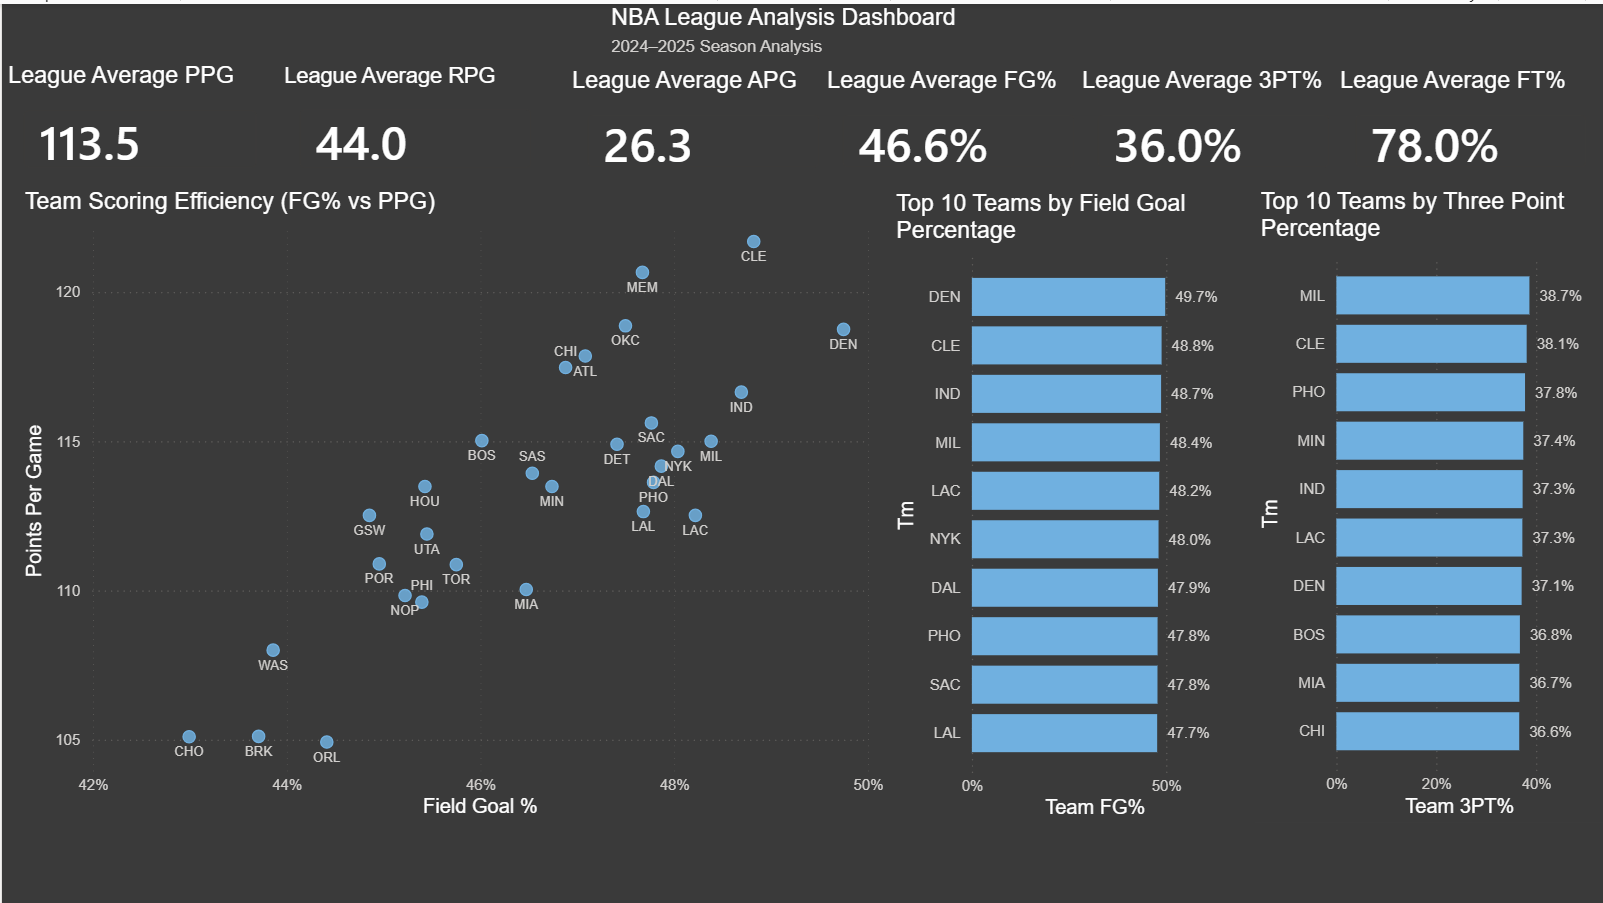

This screenshot's page, from the dashboard's own definition file:
{"tool":"powerbi","page":{"name":"League Analysis","canvas":[1280,720],"ordinal":3},"visuals":[{"type":"textbox","title":"NBA League Analysis Dashboard","box":[480.9,0,289.2,46.5],"z":0},{"type":"cardVisual","title":"League Average PPG","fields":{"Data":["Measures_Table.Team PPGFinal"]},"box":[0,46.5,220.7,101.1],"z":1000},{"type":"cardVisual","title":"League Average APG","fields":{"Data":["Measures_Table.Team APG"]},"box":[449.5,49.9,219.5,97.6],"z":2000},{"type":"cardVisual","title":"League Average FG%","fields":{"Data":["Measures_Table.Team FG%2"]},"box":[653.9,49.9,219.5,97.6],"z":3000},{"type":"cardVisual","title":"League Average RPG","fields":{"Data":["Measures_Table.Team RPG2"]},"box":[220.7,46.5,219.5,101.1],"z":4000},{"type":"cardVisual","title":"League Average 3PT%","fields":{"Data":["Measures_Table.Team 3PT%"]},"box":[857.2,49.9,219.5,97.6],"z":5000},{"type":"cardVisual","title":"League Average FT%","fields":{"Data":["Measures_Table.Team FT%"]},"box":[1062.8,49.9,218.4,97.6],"z":6000},{"type":"scatterChart","title":"Team Scoring Efficiency (FG% vs PPG)","fields":{"Category":["Dim_Team.Tm"],"X":["Measures_Table.Team FG%"],"Y":["Measures_Table.Team PPG"]},"box":[13.2,147.2,695.5,506.3],"z":7000},{"type":"clusteredBarChart","title":"Top 10 Teams by Field Goal Percentage","fields":{"Category":["Dim_Team.Tm"],"Y":["Measures_Table.Team FG%"]},"box":[708.6,148.4,280,506.3],"z":8000},{"type":"clusteredBarChart","title":"Top 10 Teams by Three Point Percentage","fields":{"Category":["Dim_Team.Tm"],"Y":["Measures_Table.Team 3PT%"]},"box":[999.5,147.2,280,506],"z":9000}]}

Visuals, with their boxes in screenshot pixels (x1, y1, x2, y2), scaled from the page's 1280x720 canvas onto the 1603x903 screenshot:
"NBA League Analysis Dashboard" textbox: BBox(602, 0, 964, 58)
"League Average PPG" cardVisual: BBox(0, 58, 276, 185)
"League Average APG" cardVisual: BBox(563, 63, 838, 185)
"League Average FG%" cardVisual: BBox(819, 63, 1094, 185)
"League Average RPG" cardVisual: BBox(276, 58, 551, 185)
"League Average 3PT%" cardVisual: BBox(1074, 63, 1348, 185)
"League Average FT%" cardVisual: BBox(1331, 63, 1602, 185)
"Team Scoring Efficiency (FG% vs PPG)" scatterChart: BBox(17, 185, 888, 820)
"Top 10 Teams by Field Goal Percentage" clusteredBarChart: BBox(887, 186, 1238, 821)
"Top 10 Teams by Three Point Percentage" clusteredBarChart: BBox(1252, 185, 1602, 819)
